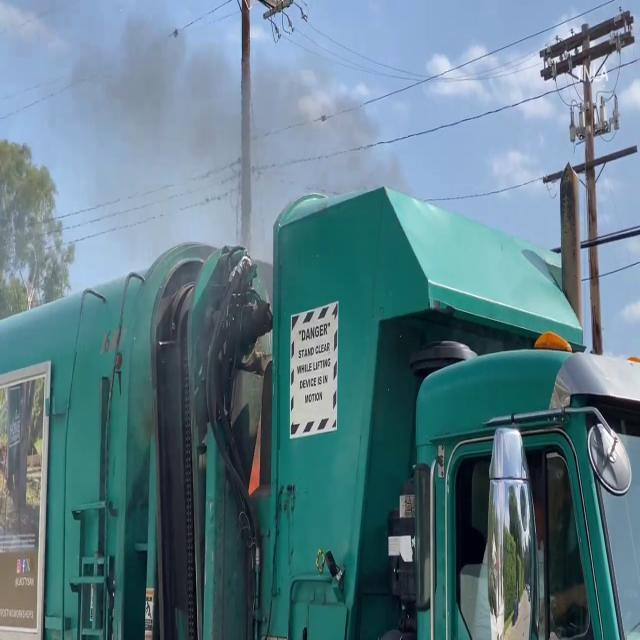Smoke: (58, 2, 379, 270)
